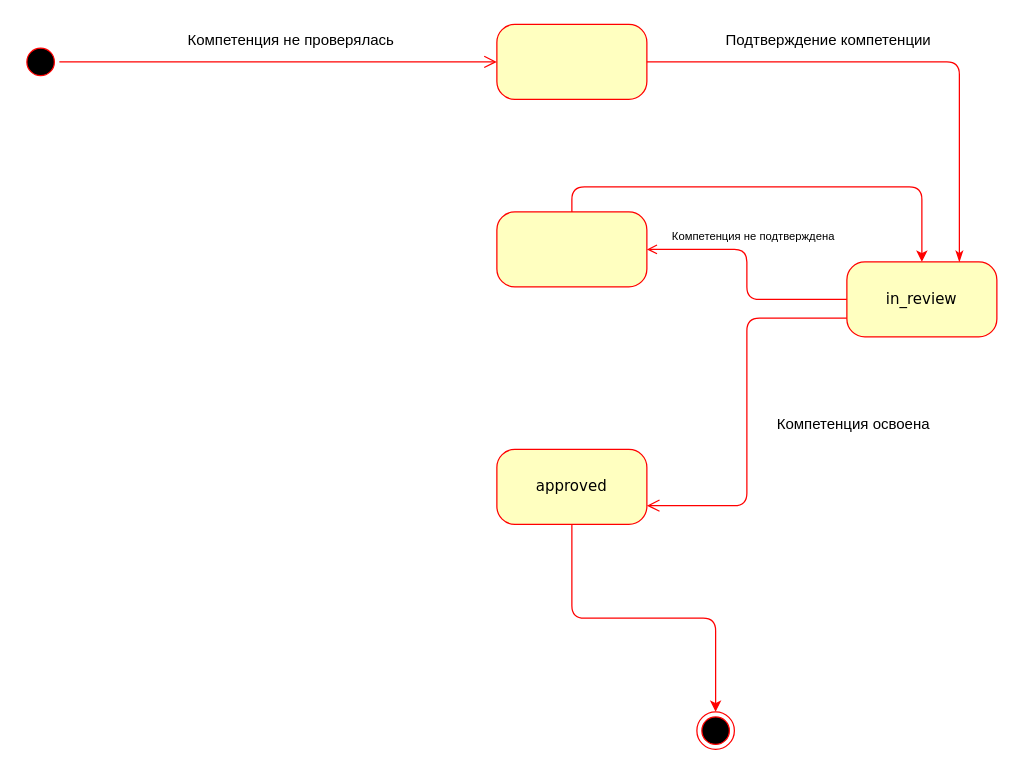
The diagram is 1019 pixels wide and 771 high, and some of its shapes have lost their labels. The centre of each missing label's shape, as x and y in pixels:
"not_assessed" belongs at (571,61).
"rejected" belongs at (571,249).
